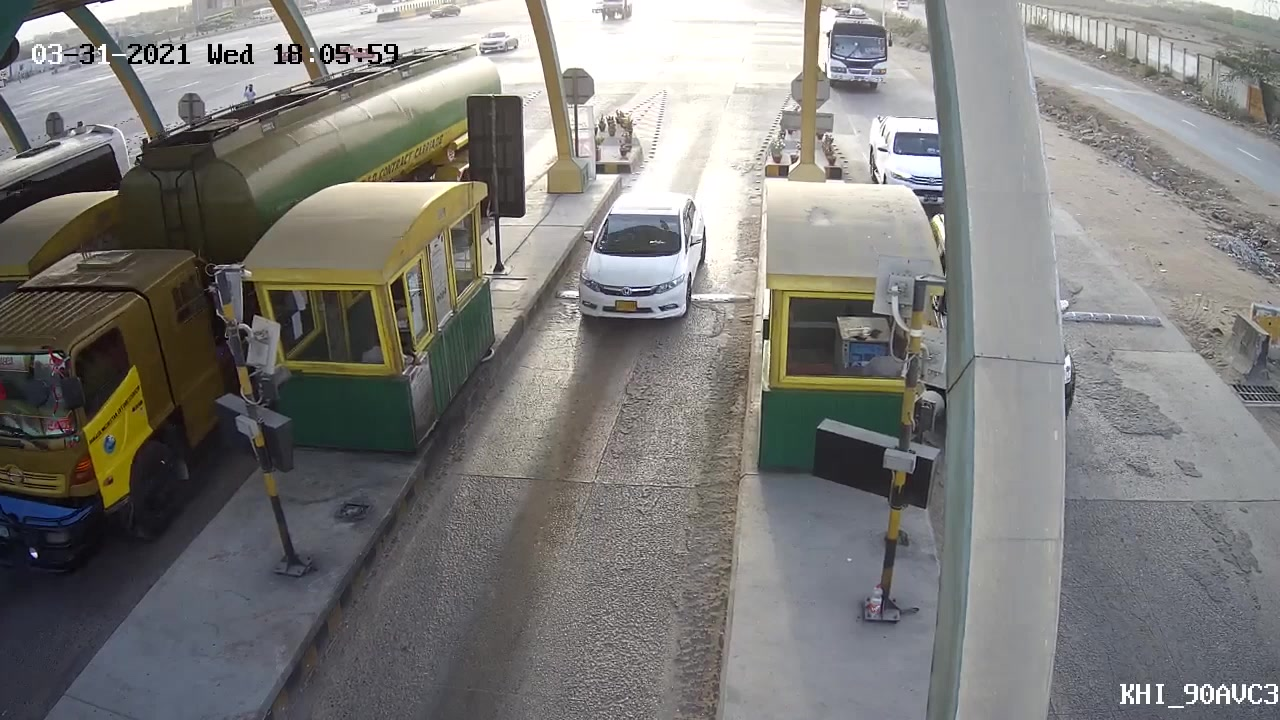F1: (565, 188, 715, 332)
